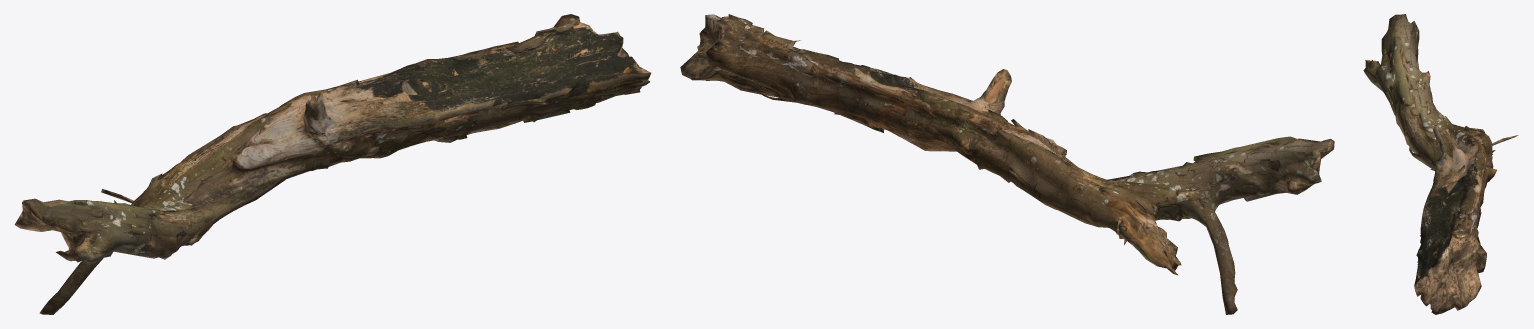
File: dead_tree_trunk_02.glb
The picture shows the model from 3 angles, left to right: view 1: azimuth 30°, elevation 25°; view 2: azimuth 150°, elevation 25°; view 3: azimuth 270°, elevation 25°; orthographic projection. The views are drawn at different scales.
Parts seen in each view (by area): view 1: dead_tree_trunk_02; view 2: dead_tree_trunk_02; view 3: dead_tree_trunk_02.
Part boxes in pixels (x1,y1,x2,y2): dead_tree_trunk_02: [14, 14, 651, 314]; dead_tree_trunk_02: [680, 14, 1334, 314]; dead_tree_trunk_02: [1363, 14, 1518, 314].
Size of the model in its own units: 4.06 by 1.06 by 1.06.
Materials: 1 (1 with a texture image).
